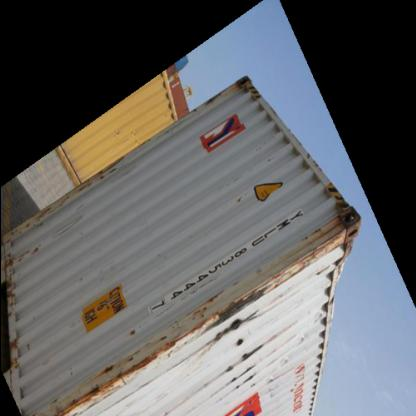Damage: (46, 308, 186, 414), (299, 200, 369, 336), (204, 283, 288, 393), (22, 159, 126, 232), (7, 242, 44, 336)
